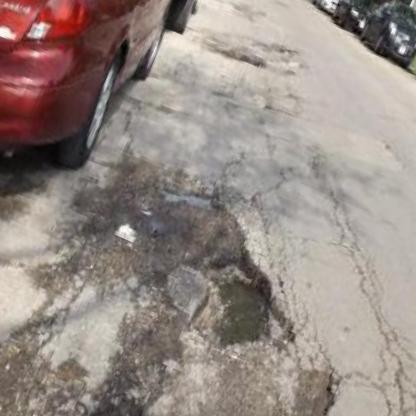pothole: (170, 248, 300, 372), (38, 378, 181, 416), (279, 357, 347, 416), (217, 38, 269, 73), (111, 214, 146, 248)
